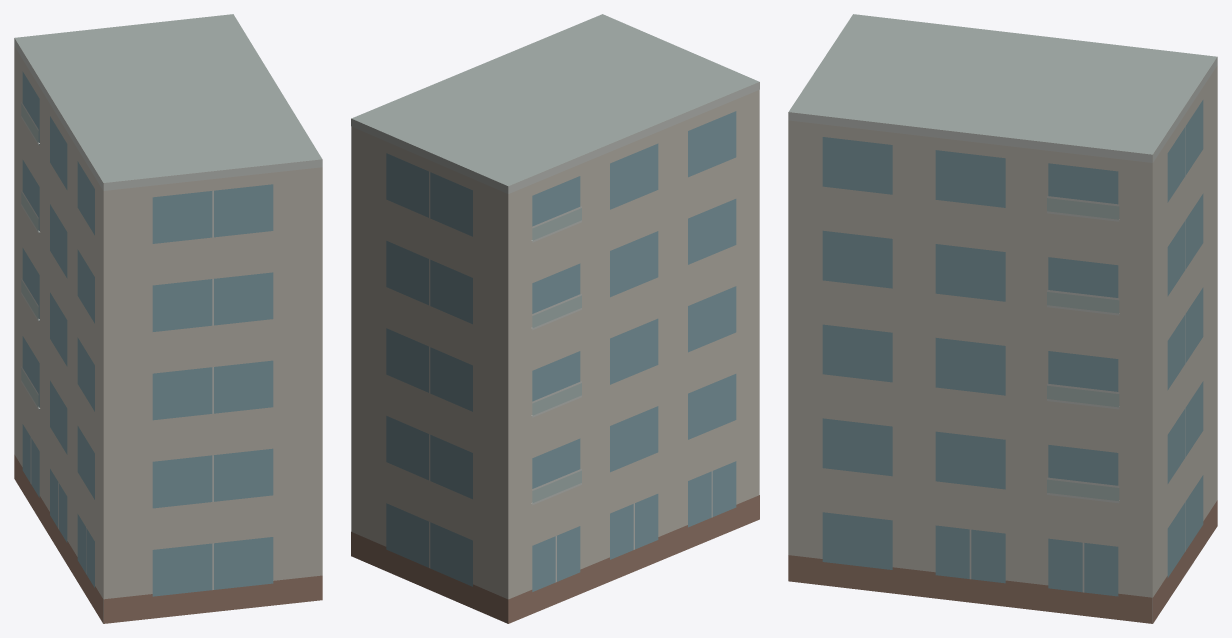
The model's file is survey-upis-32984047.glb.
3 renders of one model, left to right at view 1: azimuth 30°, elevation 25°; view 2: azimuth 150°, elevation 25°; view 3: azimuth 270°, elevation 25°, orthographic. The views are drawn at different scales.
Parts seen in each view (by area): view 1: survey-upis-32984047.tmp; view 2: survey-upis-32984047.tmp; view 3: survey-upis-32984047.tmp.
Boxes of the visible parts, left/top/right/bottom form: survey-upis-32984047.tmp: left=14, top=14, right=322, bottom=623; survey-upis-32984047.tmp: left=351, top=14, right=759, bottom=623; survey-upis-32984047.tmp: left=788, top=14, right=1217, bottom=623.
Size of the model in its own units: 8.75 by 13.6 by 11.28.
